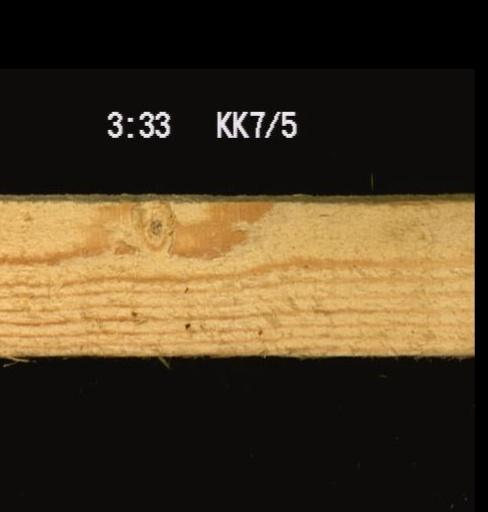sound_knot: (131, 200, 176, 251)
